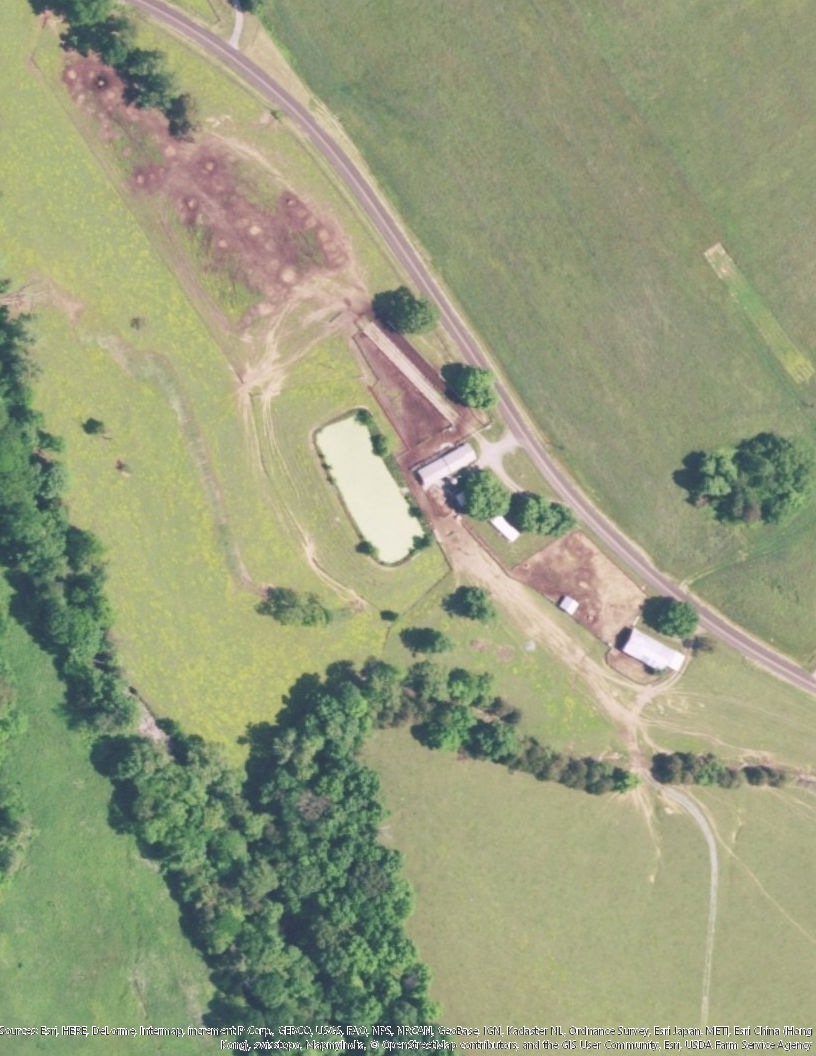cafo: (407, 437, 484, 483)
